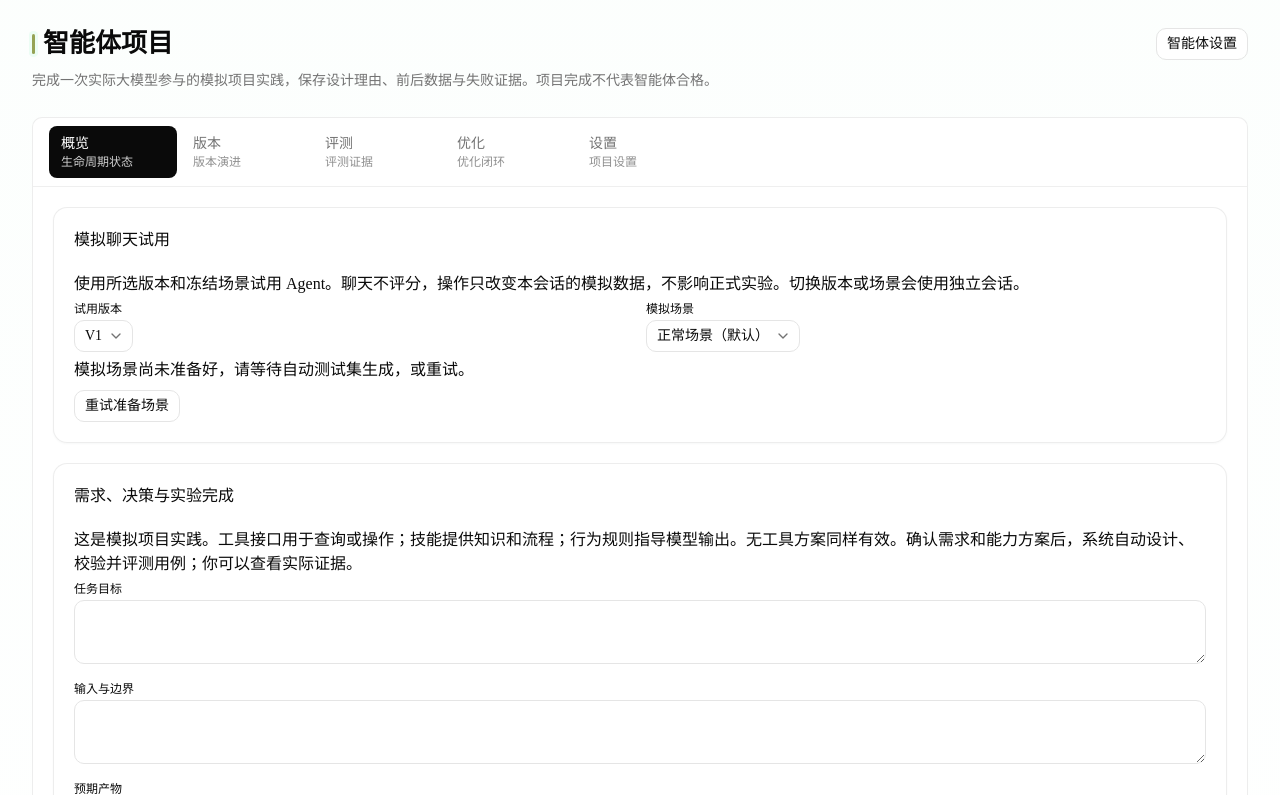
Test case: shows the pending lifecycle state
Click the button "评测 评测证据" at (377, 152), box [313,126,441,178]
(page scrolled)
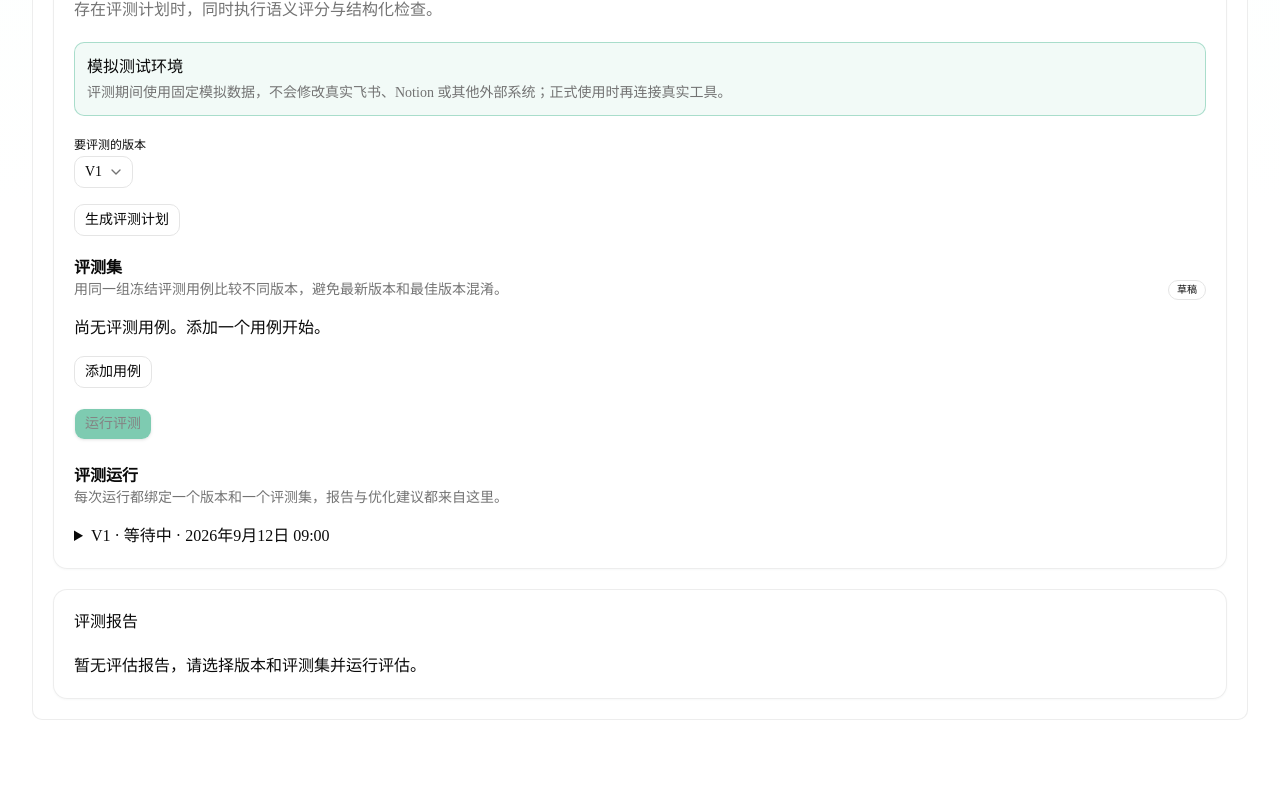
Click the heading "V1 · 等待中 · 2026年9月12日 09:00" at (210, 535), box [91,526,330,544]
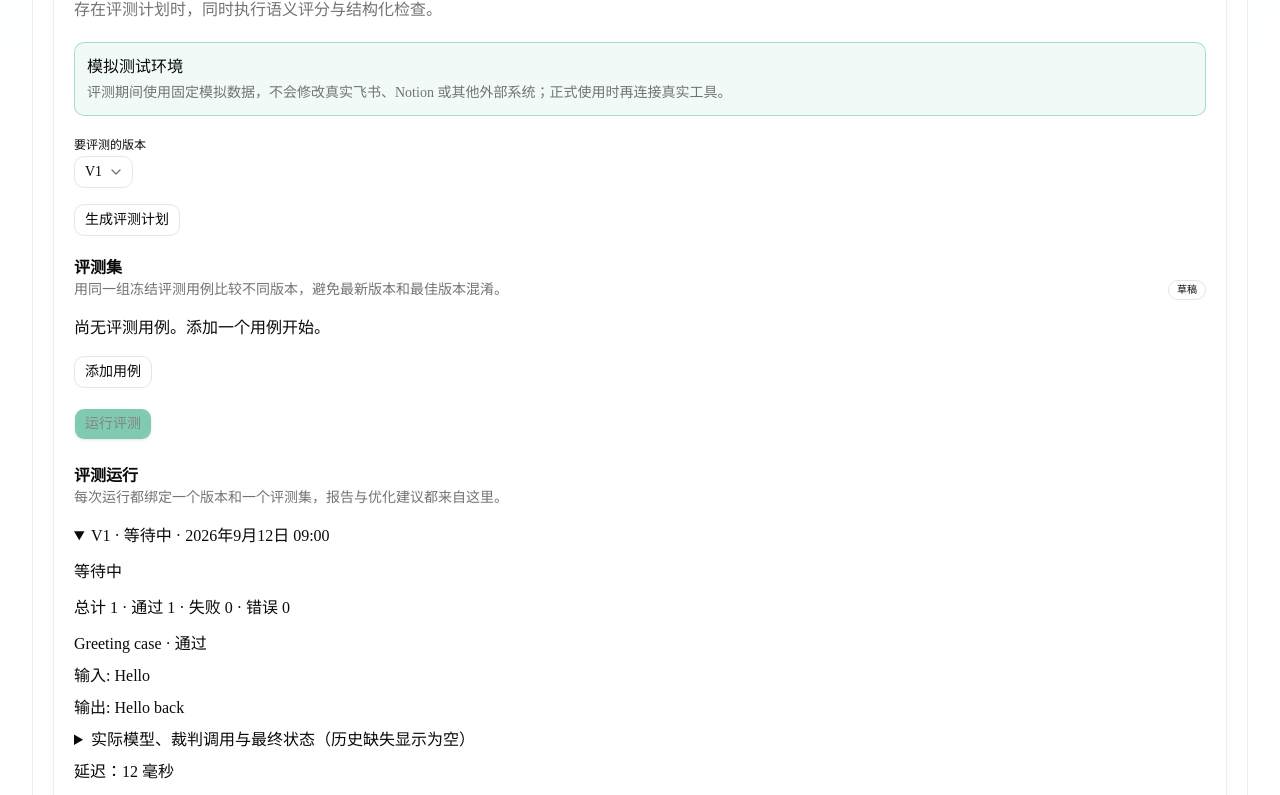
Check: the text "等待中" is shown, box [74,562,122,580]
